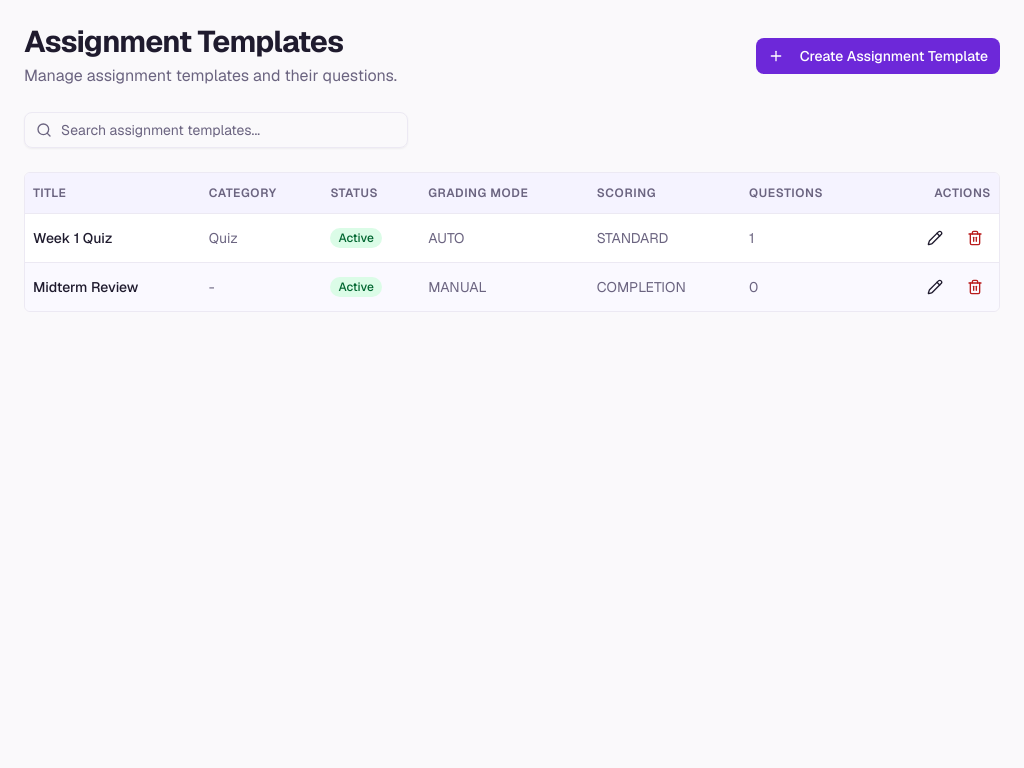
Scenario: AssignmentTemplateListView › deletes assignment template successfully and reloads list
Expected: the text "Week 1 Quiz" is shown, top-left (25, 213), bottom-right (201, 262)
Note: Click the first delete button to open dialog
Click the 2nd button "Delete" at [975, 238], box top-left (959, 222), bottom-right (991, 254)
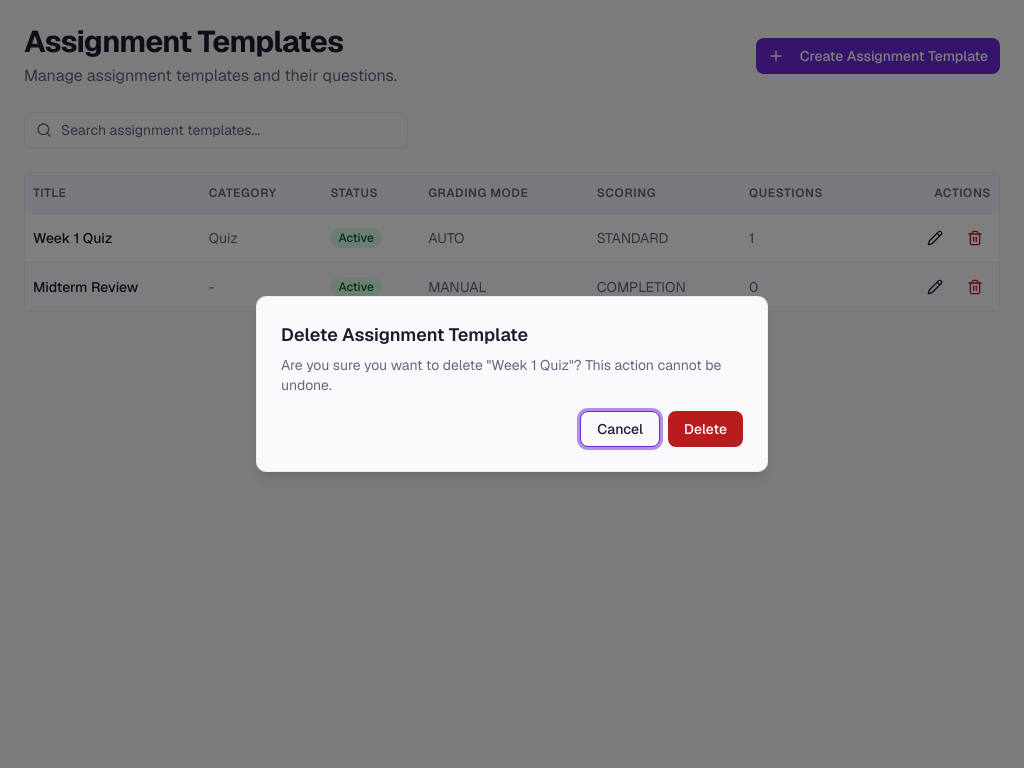
Now the text "Are you sure you want to delete" is shown, box top-left (281, 356), bottom-right (491, 374)
Now the button "Delete" is shown
Click the button "Delete" at [705, 429], box top-left (668, 411), bottom-right (743, 447)
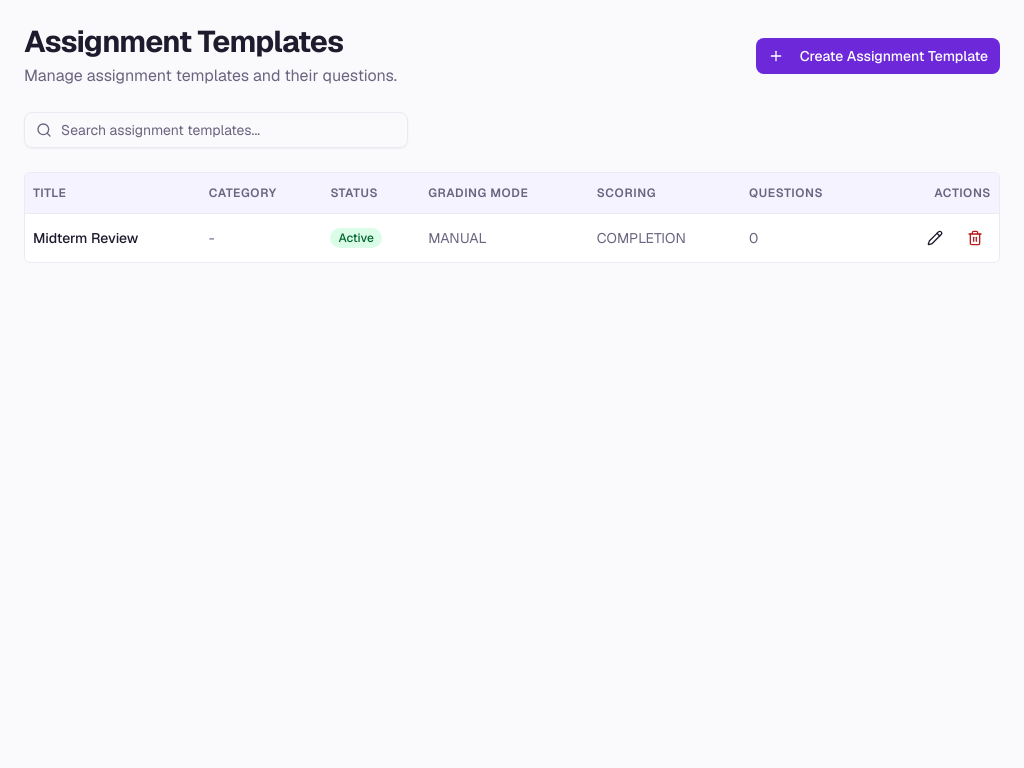
Expected: the text "Midterm Review" is shown, top-left (25, 213), bottom-right (201, 262)
Now the text "Week 1 Quiz" is gone
